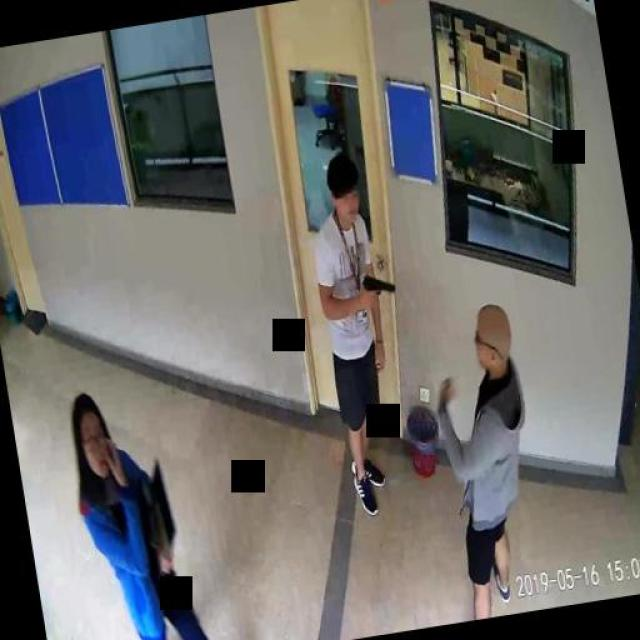gun: (359, 269, 396, 309)
